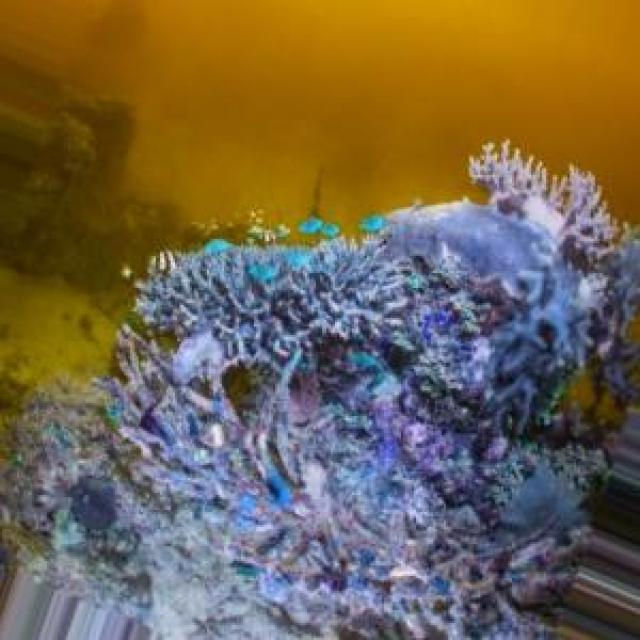Healthy: (1, 144, 640, 640), (372, 197, 590, 434), (146, 248, 370, 415), (487, 458, 577, 611), (44, 451, 150, 575)
